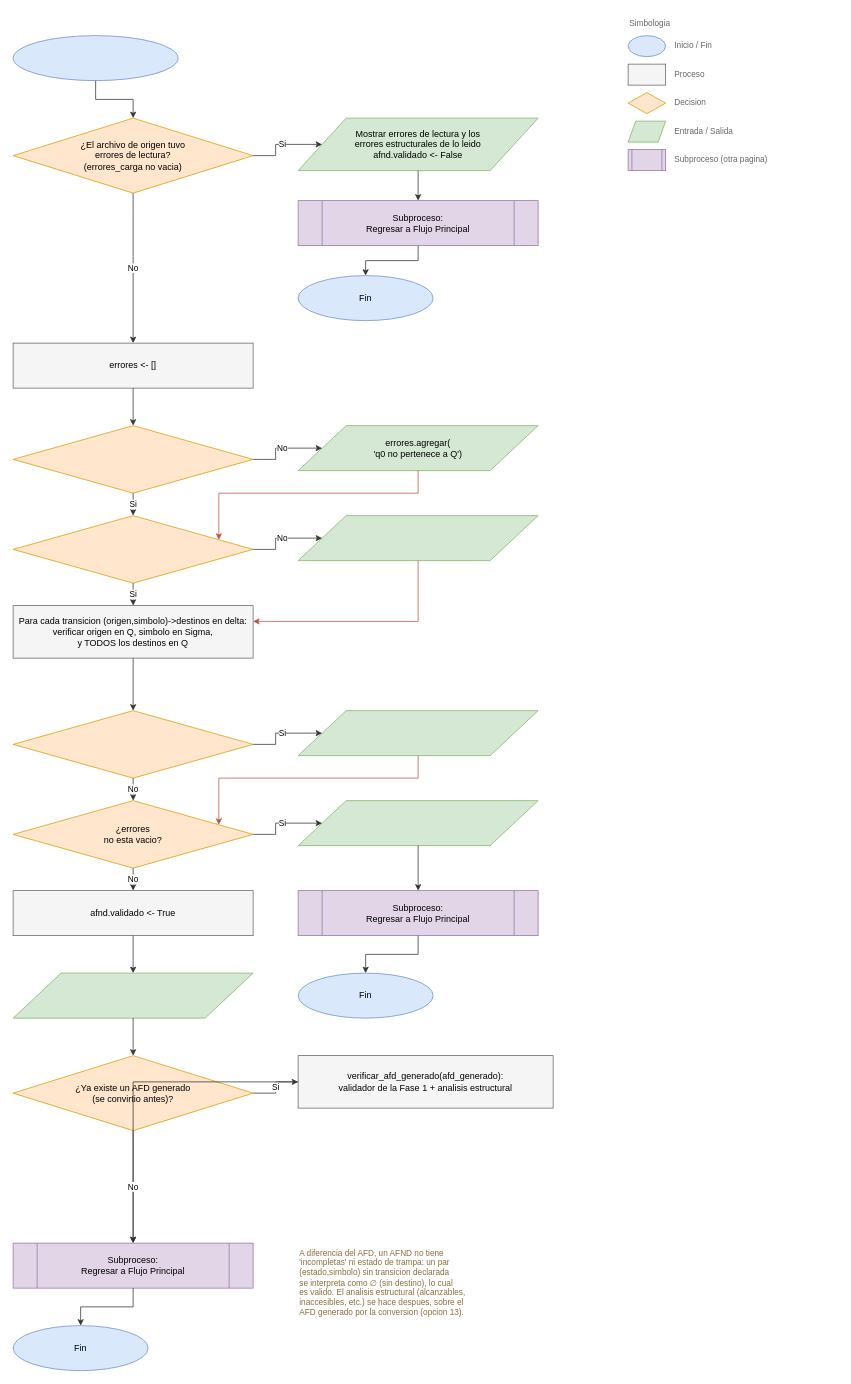
Image size: 851x1384. Some labels were removed from this diagram. Each missing label, with the centre of its shape:
errores.agregar( 'F no es subconjunto de Q'): (x=417, y=538)
errores.agregar( 'transicion inconsistente'): (x=417, y=733)
Inicio: Validar estructura del AFND: (x=95, y=58)
Mostrar lista de errores afnd.validado <- False: (x=417, y=823)
Mostrar: 'El AFND es valido' Sugerir opcion 7 (convertir a AFD): (x=132, y=995)
¿Alguna transicion es inconsistente?: (x=132, y=744)
¿F es subconjunto de Q?: (x=132, y=549)
¿q0 pertenece a Q?: (x=132, y=459)
